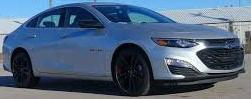Cars: (4, 4, 245, 96)
